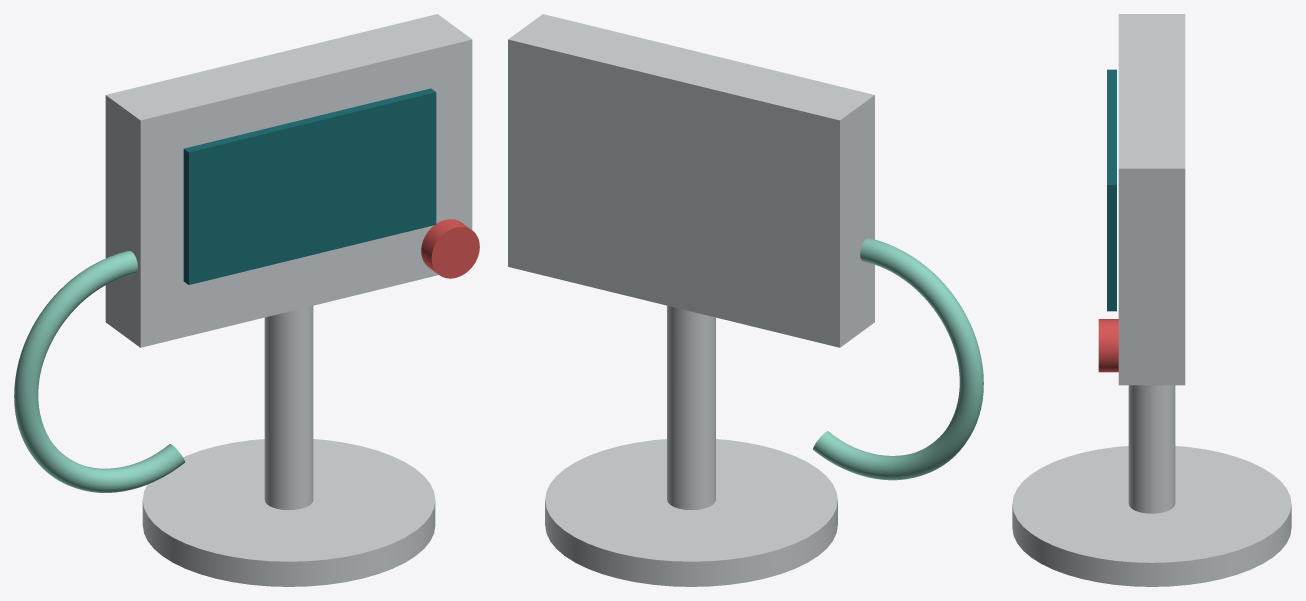
The model's file is Medical Device Model_embedded.gltf.
3 renders of one model, left to right at view 1: azimuth 30°, elevation 25°; view 2: azimuth 150°, elevation 25°; view 3: azimuth 270°, elevation 25°, orthographic. The views are drawn at different scales.
Parts seen in each view (by area): view 1: monitor_body, display, base, fluid_tube, stand, control_knob; view 2: monitor_body, base, fluid_tube, stand; view 3: base, monitor_body, stand, display, control_knob.
Boxes of the visible parts, x1,y1,x2,y2 form: monitor_body: (105, 14, 472, 347); display: (183, 88, 436, 284); base: (142, 439, 435, 586); fluid_tube: (14, 250, 184, 492); stand: (264, 306, 313, 510); control_knob: (421, 219, 479, 278); monitor_body: (508, 14, 874, 347); base: (545, 439, 837, 586); fluid_tube: (813, 238, 983, 480); stand: (667, 305, 715, 510); base: (1012, 446, 1291, 586); monitor_body: (1118, 14, 1185, 385); stand: (1128, 385, 1175, 513); display: (1107, 69, 1116, 311); control_knob: (1098, 319, 1118, 372).
Size of the model in its own units: 1.48 by 1.45 by 0.84.
